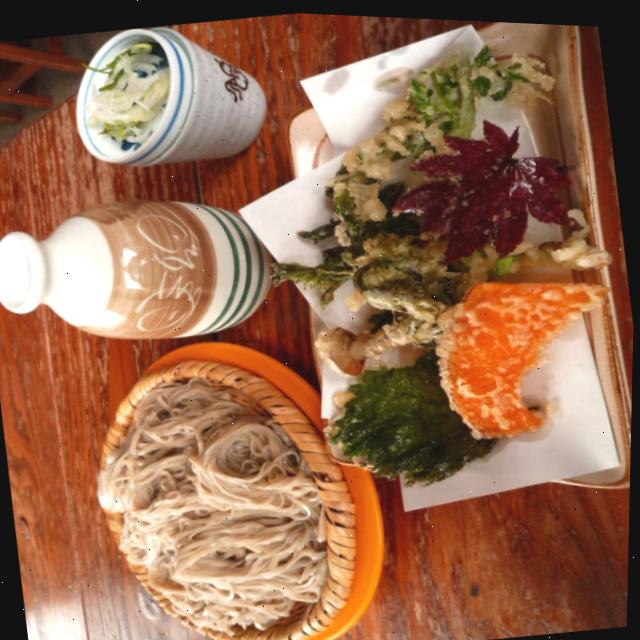蔬菜料理: (276, 10, 624, 486)
